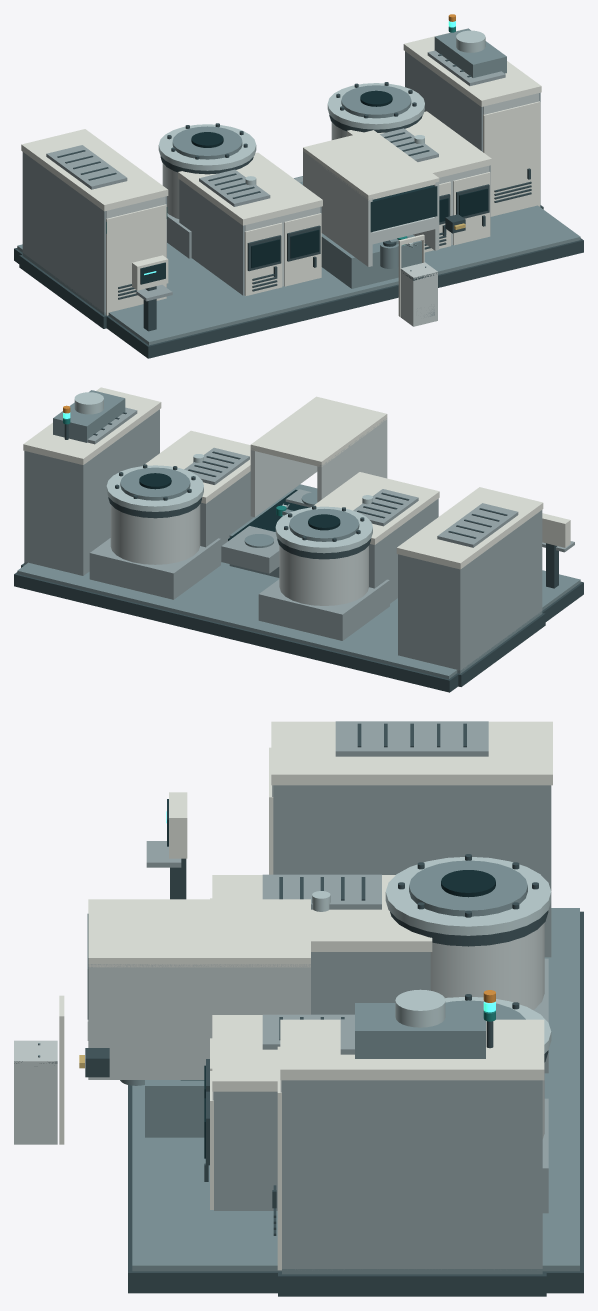
File: deposition.glb
The picture shows the model from 3 angles, top to bottom: view 1: azimuth 30°, elevation 25°; view 2: azimuth 150°, elevation 25°; view 3: azimuth 270°, elevation 25°; orthographic projection. The views are drawn at different scales.
Parts seen in each view (by area): view 1: outer_panels, process_modules, port, efem; view 2: outer_panels, process_modules; view 3: outer_panels, process_modules, port.
Part boxes in pixels (x1,y1,x2,y2): outer_panels: (19, 14, 543, 328); process_modules: (14, 176, 583, 358); port: (398, 234, 437, 326); efem: (380, 240, 398, 268); outer_panels: (21, 387, 545, 686); process_modules: (14, 484, 583, 692); outer_panels: (87, 721, 552, 1296); process_modules: (85, 792, 583, 1293); port: (14, 995, 64, 1144).
Bounding box in the file's own units: 8.5 × 3.02 × 5.58.
13 materials, 1 textured.
